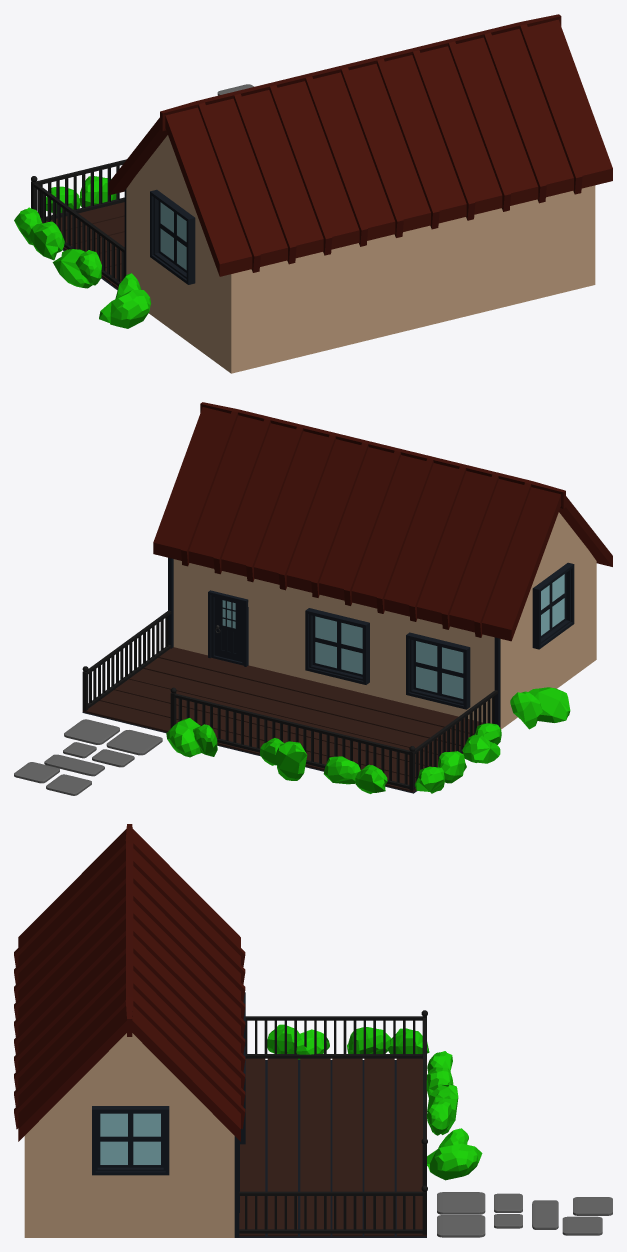
The model's file is house.obj.
The picture shows the model from 3 angles, top to bottom: view 1: azimuth 30°, elevation 25°; view 2: azimuth 150°, elevation 25°; view 3: azimuth 270°, elevation 25°; orthographic projection. The views are drawn at different scales.
Visible parts, largest first — view 1: House.001; view 2: House.001; view 3: House.001.
Boxes of the visible parts, x1,y1,x2,y2 form: House.001: [14, 14, 612, 373]; House.001: [14, 402, 612, 795]; House.001: [14, 824, 612, 1237].
Bounding box in the file's own units: 20.61 × 10.91 × 24.77.
